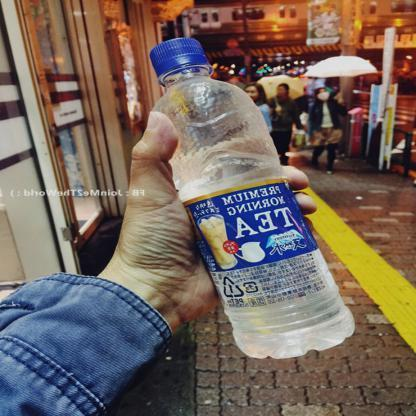bottle: (144, 32, 354, 365)
